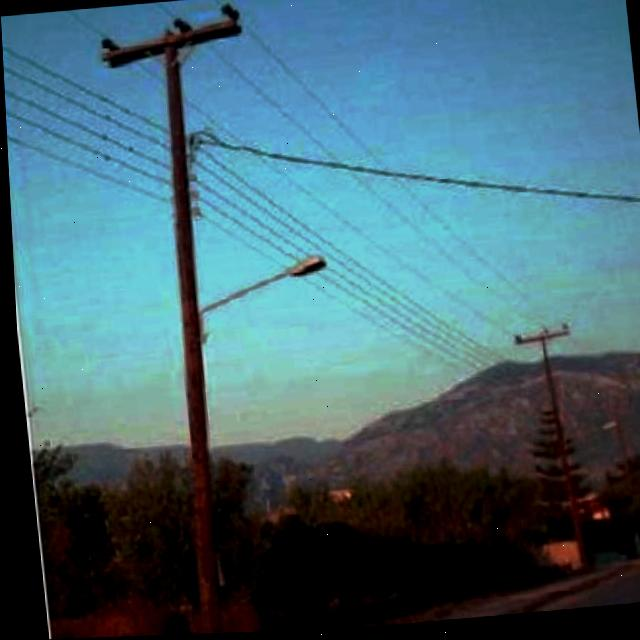poles: (86, 4, 305, 631), (506, 315, 588, 434)
wires: (197, 158, 520, 408), (181, 120, 640, 216), (5, 40, 168, 214)
